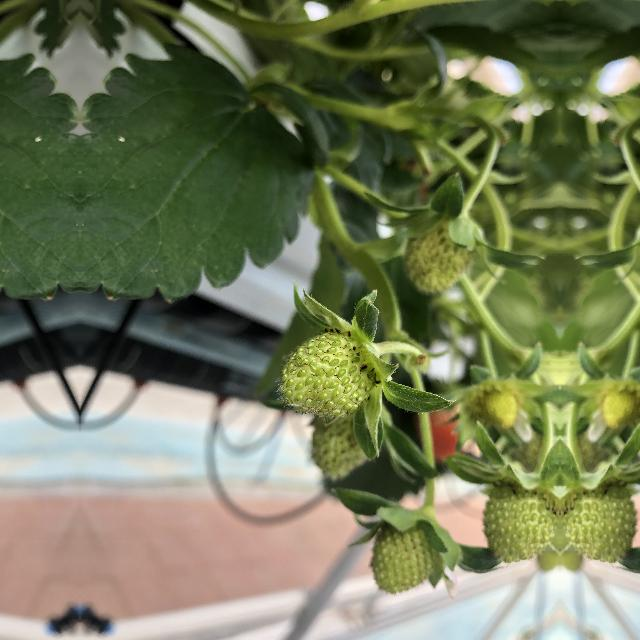Health_25: (279, 322, 389, 428), (402, 210, 482, 296), (481, 476, 559, 562), (561, 476, 639, 562), (368, 509, 442, 593)
